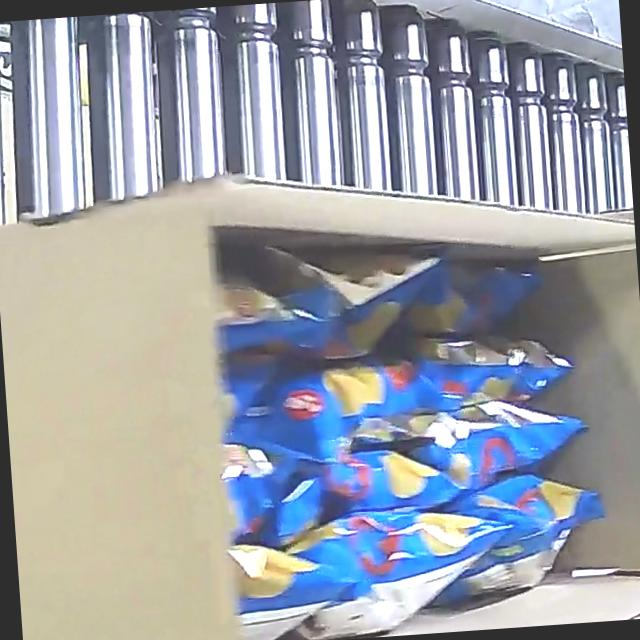paprika: (205, 237, 611, 637)
